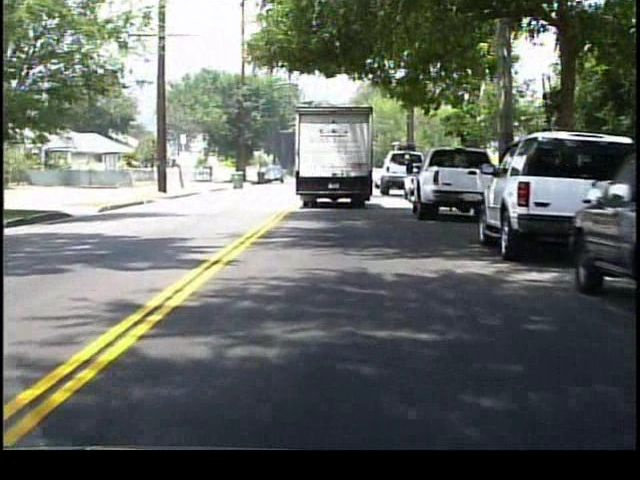person: (207, 161, 216, 183)
